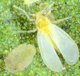whitefly: (13, 5, 79, 70)
